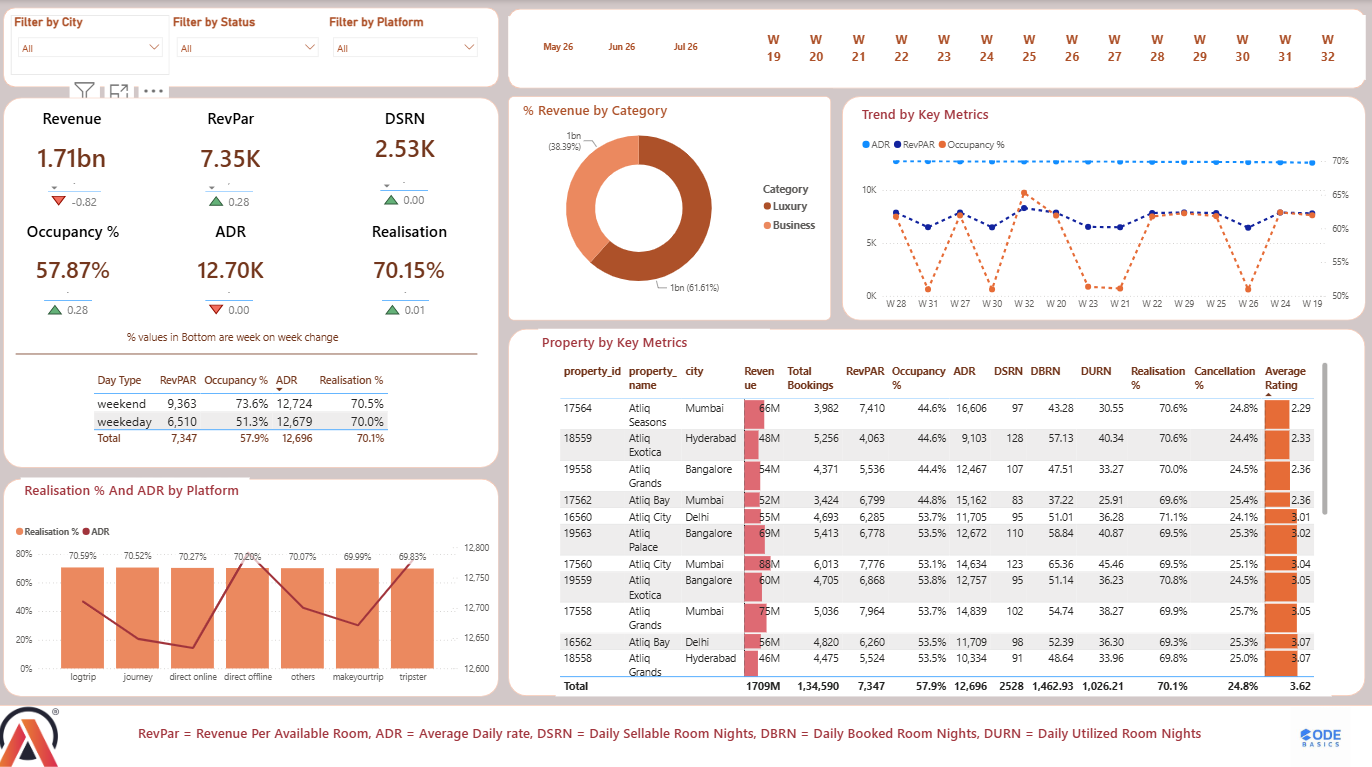

This screenshot's page, from the dashboard's own definition file:
{"tool":"powerbi","page":{"name":"Page 1","canvas":[1920,1080],"ordinal":0},"visuals":[{"type":"shape","box":[714.2,459,1195.9,512.5],"z":0},{"type":"shape","box":[1179.4,133.8,730.7,312.9],"z":1000},{"type":"shape","box":[9,667.8,691.3,304],"z":2000},{"type":"shape","box":[714.2,12.3,1195.9,111.1],"z":3000},{"type":"shape","box":[8.2,10.3,691.6,111.1],"z":4000},{"type":"slicer","title":"Filter by City","fields":{"Values":["dim_hotels.city"]},"box":[18.5,20.6,222.3,84.4],"z":5000},{"type":"slicer","title":"Filter by Platform","fields":{"Values":["fact_bookings.booking_platform"]},"box":[459,20.6,222.3,84.4],"z":6000},{"type":"slicer","title":"Filter by Status","fields":{"Values":["fact_bookings.booking_status"]},"box":[240.8,20.6,218.2,84.4],"z":7000},{"type":"slicer","title":"Filter by City","fields":{"Values":["dim_date.mmm yy"]},"box":[714.2,22.6,314.9,84.4],"z":8000},{"type":"slicer","title":"Filter by City","fields":{"Values":["dim_date.week no"]},"box":[1029.2,20.6,881,90.6],"z":9000},{"type":"shape","box":[8.2,135.8,691.6,516.6],"z":10000},{"type":"cardVisual","title":"Revenue","fields":{"Data":["MEasures (2).Revenue"]},"box":[18.5,150.3,170.8,111.1],"z":11000},{"type":"tableEx","fields":{"Values":["MEasures (2).Revenue WoW change %"]},"box":[63.8,236.7,86.4,70],"z":12000},{"type":"cardVisual","title":"RevPar","fields":{"Data":["MEasures (2).RevPAR"]},"box":[240.8,150.3,170.8,111.1],"z":13000},{"type":"tableEx","fields":{"Values":["MEasures (2).Revpar WoW change %"]},"box":[284,236.7,90.6,70],"z":14000},{"type":"cardVisual","title":"DSRN","fields":{"Data":["MEasures (2).DSRN"]},"box":[489.9,150.3,158.5,86.4],"z":15000},{"type":"tableEx","fields":{"Values":["MEasures (2).DSRN WoW change %"]},"box":[529,234.6,82.3,72],"z":16000},{"type":"cardVisual","title":"Occupancy %","fields":{"Data":["MEasures (2).Occupancy %"]},"box":[20.6,306.7,170.8,111.1],"z":17000},{"type":"tableEx","fields":{"Values":["MEasures (2).Occupancy WoW change %"]},"box":[59.7,389,90.6,70],"z":18000},{"type":"cardVisual","title":"ADR","fields":{"Data":["MEasures (2).ADR"]},"box":[240.8,306.7,170.8,111.1],"z":19000},{"type":"tableEx","fields":{"Values":["MEasures (2).ADR WoW change %"]},"box":[284,389,90.6,70],"z":20000},{"type":"cardVisual","title":"Realisation","fields":{"Data":["MEasures (2).Realisation %"]},"box":[489.9,306.7,170.8,111.1],"z":21000},{"type":"tableEx","fields":{"Values":["MEasures (2).Realisation WoW change %"]},"box":[531,389,90.6,70],"z":22000},{"type":"shape","box":[26.8,491.9,644.3,4.1],"z":23000},{"type":"textbox","box":[177,454.9,319,37],"z":24000},{"type":"tableEx","fields":{"Values":["dim_date.day_type","MEasures (2).RevPAR","MEasures (2).Occupancy %","MEasures (2).ADR","MEasures (2).Realisation %"]},"box":[129.7,512.5,430.2,115.3],"z":25000},{"type":"donutChart","fields":{"Y":["MEasures (2).Revenue"],"Category":["dim_hotels.category"]},"box":[714.2,133.8,450.8,312.9],"z":26000},{"type":"textbox","box":[728.6,135.8,232.6,43.2],"z":27000},{"type":"lineClusteredColumnComboChart","fields":{"Category":["fact_bookings.booking_platform"],"Y":["MEasures (2).Realisation %"],"Y2":["MEasures (2).ADR"]},"box":[20.6,722.5,671,240.8],"z":28000},{"type":"textbox","box":[32.9,666.9,319,39.1],"z":29000},{"type":"lineChart","fields":{"Category":["dim_date.week no"],"Y":["MEasures (2).ADR","MEasures (2).RevPAR"],"Y2":["MEasures (2).Occupancy %"]},"box":[1202.1,181.1,689.5,261.4],"z":30000},{"type":"textbox","box":[1202.1,142,232.6,43.2],"z":31000},{"type":"tableEx","fields":{"Values":["dim_hotels.property_id","dim_hotels.property_name","dim_hotels.city","MEasures (2).Revenue","MEasures (2).Total Bookings","MEasures (2).RevPAR","MEasures (2).Occupancy %","MEasures (2).ADR","MEasures (2).DSRN","MEasures (2).DBRN","MEasures (2).DURN","MEasures (2).Realisation %"]},"box":[780.1,500.2,1082.7,471.4],"z":32000},{"type":"textbox","box":[755.4,459,323.2,43.2],"z":33000},{"type":"shape","box":[0,983.9,1920,88.5],"z":34000},{"type":"image","box":[0,983.9,88.5,88.5],"z":35000},{"type":"textbox","box":[187.3,1004.5,1545.8,49.4],"z":36000},{"type":"image","box":[1801,988,90.6,84.4],"z":37000}]}

Visuals, with their boxes in screenshot pixels (x1, y1, x2, y2), scaled from the page's 1920x1080 canvas onto the 1372x767 screenshot:
shape: box=[510, 326, 1365, 690]
shape: box=[843, 95, 1365, 317]
shape: box=[6, 474, 500, 690]
shape: box=[510, 9, 1365, 88]
shape: box=[6, 7, 500, 86]
"Filter by City" slicer: box=[13, 15, 172, 75]
"Filter by Platform" slicer: box=[328, 15, 487, 75]
"Filter by Status" slicer: box=[172, 15, 328, 75]
"Filter by City" slicer: box=[510, 16, 735, 76]
"Filter by City" slicer: box=[735, 15, 1365, 79]
shape: box=[6, 96, 500, 463]
"Revenue" cardVisual: box=[13, 107, 135, 186]
tableEx - MEasures (2).Revenue WoW change %: box=[46, 168, 107, 218]
"RevPar" cardVisual: box=[172, 107, 294, 186]
tableEx - MEasures (2).Revpar WoW change %: box=[203, 168, 268, 218]
"DSRN" cardVisual: box=[350, 107, 463, 168]
tableEx - MEasures (2).DSRN WoW change %: box=[378, 167, 437, 218]
"Occupancy %" cardVisual: box=[15, 218, 137, 297]
tableEx - MEasures (2).Occupancy WoW change %: box=[43, 276, 107, 326]
"ADR" cardVisual: box=[172, 218, 294, 297]
tableEx - MEasures (2).ADR WoW change %: box=[203, 276, 268, 326]
"Realisation" cardVisual: box=[350, 218, 472, 297]
tableEx - MEasures (2).Realisation WoW change %: box=[379, 276, 444, 326]
shape: box=[19, 349, 480, 352]
textbox: box=[126, 323, 354, 349]
tableEx - dim_date.day_type x MEasures (2).RevPAR: box=[93, 364, 400, 446]
donutChart - MEasures (2).Revenue x dim_hotels.category: box=[510, 95, 832, 317]
textbox: box=[521, 96, 687, 127]
lineClusteredColumnComboChart - fact_bookings.booking_platform x MEasures (2).Realisation %: box=[15, 513, 494, 684]
textbox: box=[24, 474, 251, 501]
lineChart - dim_date.week no x MEasures (2).ADR: box=[859, 129, 1352, 314]
textbox: box=[859, 101, 1025, 132]
tableEx - dim_hotels.property_id x dim_hotels.property_name: box=[557, 355, 1331, 690]
textbox: box=[540, 326, 771, 357]
shape: box=[0, 699, 1371, 762]
image: box=[0, 699, 63, 762]
textbox: box=[134, 713, 1238, 748]
image: box=[1287, 702, 1352, 762]
